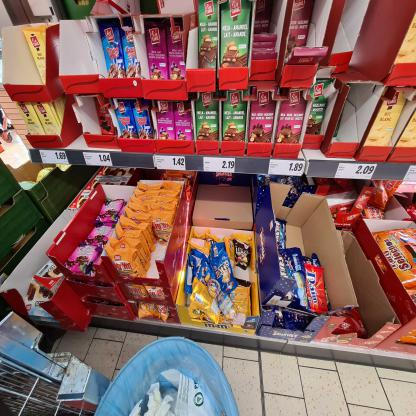prtg: (335, 164, 378, 180), (269, 160, 306, 177), (204, 158, 236, 174), (156, 156, 187, 172), (83, 153, 114, 167), (40, 151, 70, 165), (403, 166, 415, 182)
